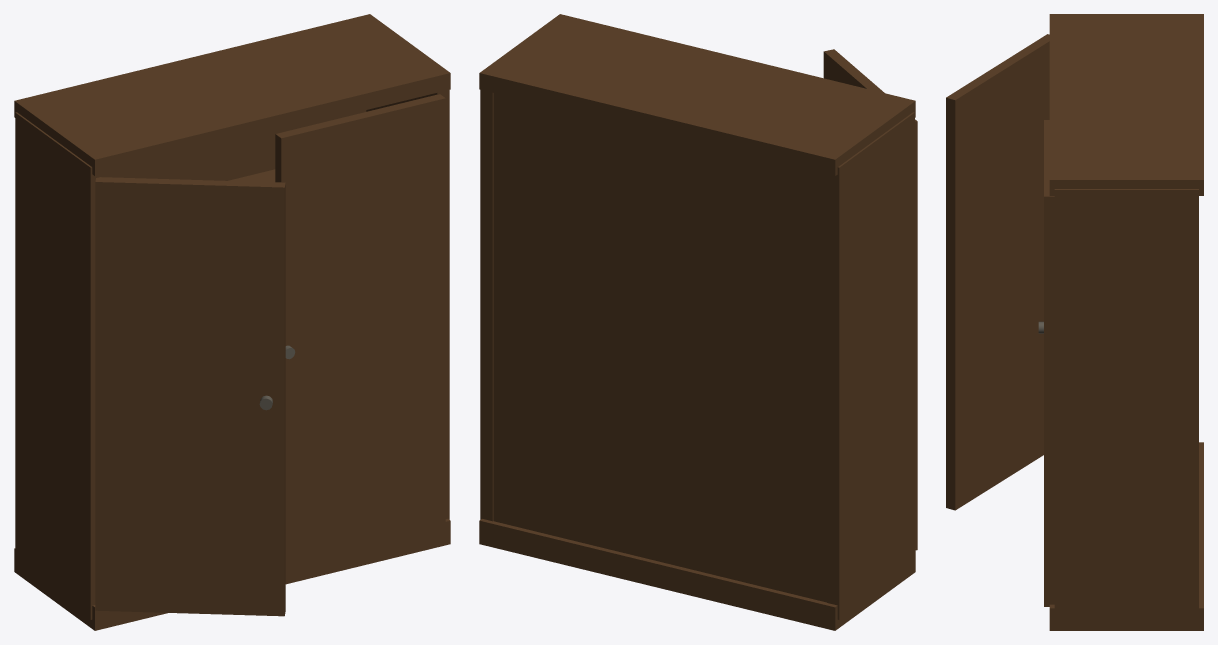
The model's file is wardrobe_80s.glb.
3 renders of one model, left to right at view 1: azimuth 30°, elevation 25°; view 2: azimuth 150°, elevation 25°; view 3: azimuth 270°, elevation 25°, orthographic. The views are drawn at different scales.
Visible parts, largest first — view 1: wood__door_left, wood__door_right, wood__left_side, wood__top, wood__base, wood__back, wood__right_side; view 2: wood__back, wood__left_side, wood__top, wood__base, wood__right_side, wood__door_left; view 3: wood__right_side, wood__door_left, wood__top, wood__door_right, wood__base.
Part boxes in pixels (<box>): wood__door_left: <box>95,177,285,616</box>; wood__door_right: <box>275,94,445,565</box>; wood__left_side: <box>15,112,102,619</box>; wood__top: <box>14,14,450,175</box>; wood__base: <box>14,519,450,630</box>; wood__back: <box>103,110,366,180</box>; wood__right_side: <box>366,90,449,519</box>; wood__back: <box>493,93,826,602</box>; wood__left_side: <box>827,112,914,619</box>; wood__top: <box>479,14,915,175</box>; wood__base: <box>479,519,915,630</box>; wood__right_side: <box>480,89,493,521</box>; wood__door_left: <box>823,49,917,550</box>; wood__right_side: <box>1054,189,1198,622</box>; wood__door_left: <box>946,34,1049,510</box>; wood__top: <box>1049,14,1203,195</box>; wood__door_right: <box>1044,120,1054,606</box>; wood__base: <box>1049,442,1203,630</box>.
Size of the model in its own units: 1.59 by 2 by 1.04.
